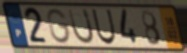2: (23, 4, 52, 47)
4: (120, 8, 141, 48)
8: (140, 9, 162, 47)
G: (46, 8, 73, 45)
U: (67, 7, 96, 46), (90, 8, 118, 46)
